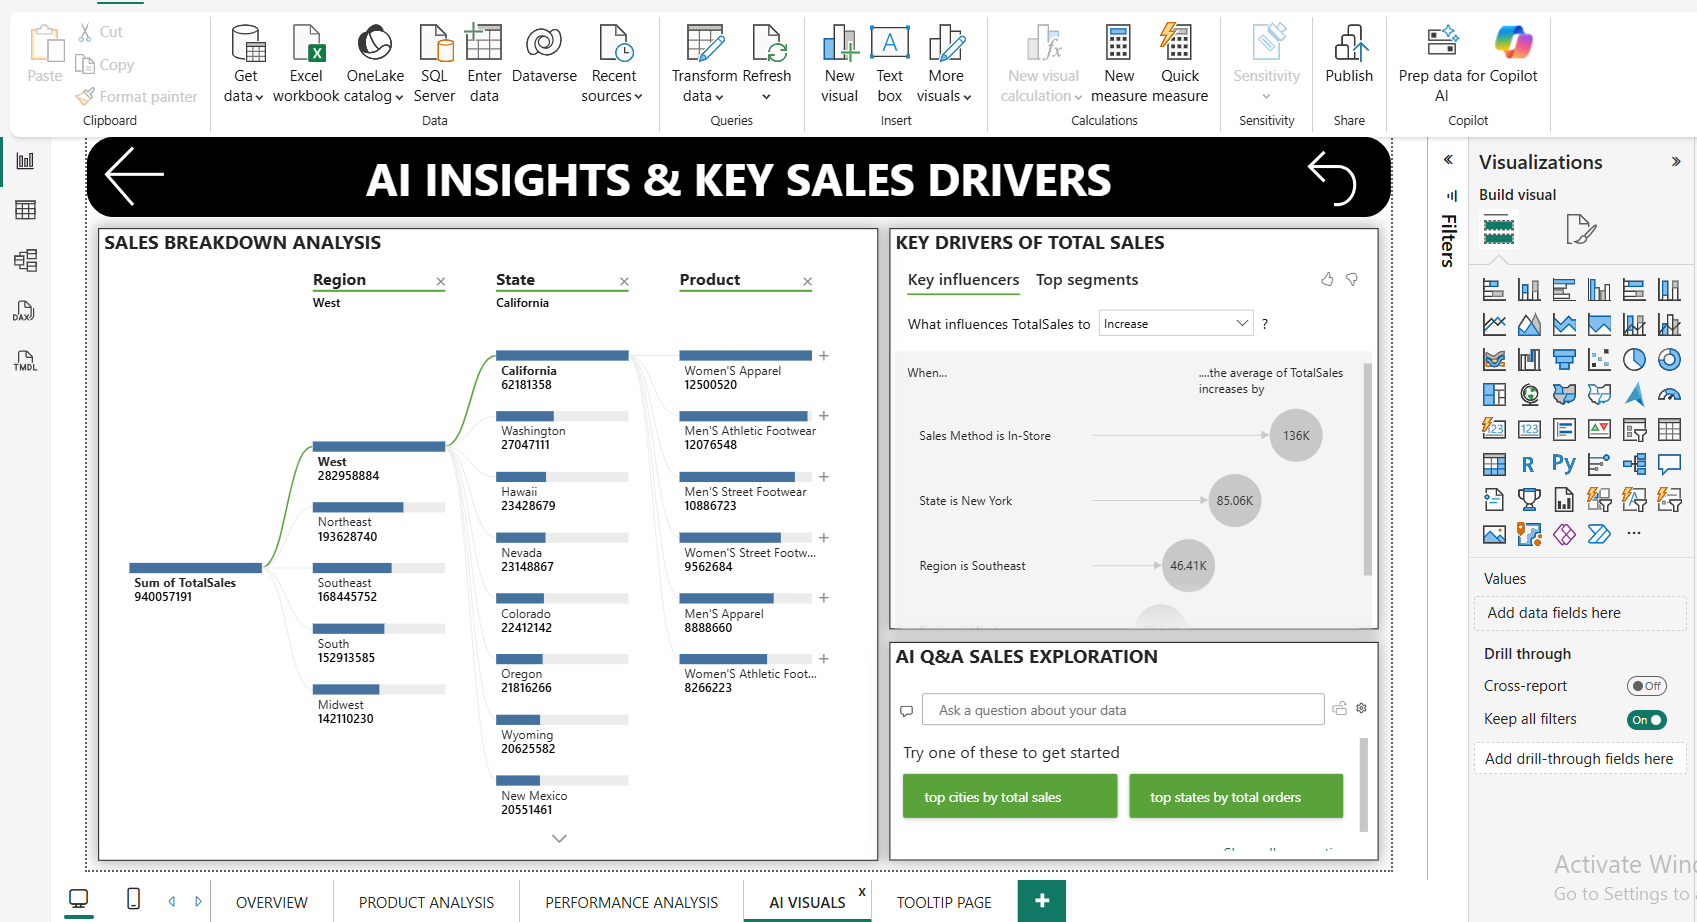

The page's visual inventory and layout, read from the dashboard file:
{"tool":"powerbi","page":{"name":"AI VISUALS","canvas":[1280,720],"ordinal":3},"visuals":[{"type":"shape","box":[0,0,1279.8,78.5],"z":0},{"type":"keyDriversVisual","title":"KEY DRIVERS OF TOTAL SALES","fields":{"Target":["Adidas Sales.TotalSales"],"ExplainBy":["Adidas Sales.Region","Adidas Sales.State","Adidas Sales.Sales Method"]},"box":[787.7,89.6,479.8,393.9],"z":1000},{"type":"decompositionTreeVisual","title":"SALES BREAKDOWN ANALYSIS","fields":{"ExplainBy":["Adidas Sales.Region","Adidas Sales.State","Adidas Sales.Product","Adidas Sales.Sales Method","Adidas Sales.Retailer"],"Analyze":["Sum(Adidas Sales.TotalSales)"]},"box":[11,89.6,765.6,620.9],"z":2000},{"type":"qnaVisual","title":"AI Q&A SALES EXPLORATION","box":[787.7,495.7,479.8,214.7],"z":3000},{"type":"actionButton","box":[1187.5,6.1,92,69],"z":3001},{"type":"actionButton","box":[11,2.5,83.4,72.4],"z":3002}]}

Visuals, with their boxes on the page's 1280x720 design canvas (x1, y1, x2, y2). These are canvas units, not pixel positions in the 1697x922 screenshot, which may show the page scaled, cropped or inside an application window:
shape: region(0, 0, 1280, 78)
"KEY DRIVERS OF TOTAL SALES" keyDriversVisual: region(788, 90, 1268, 484)
"SALES BREAKDOWN ANALYSIS" decompositionTreeVisual: region(11, 90, 777, 710)
"AI Q&A SALES EXPLORATION" qnaVisual: region(788, 496, 1268, 710)
actionButton: region(1188, 6, 1280, 75)
actionButton: region(11, 2, 94, 75)
